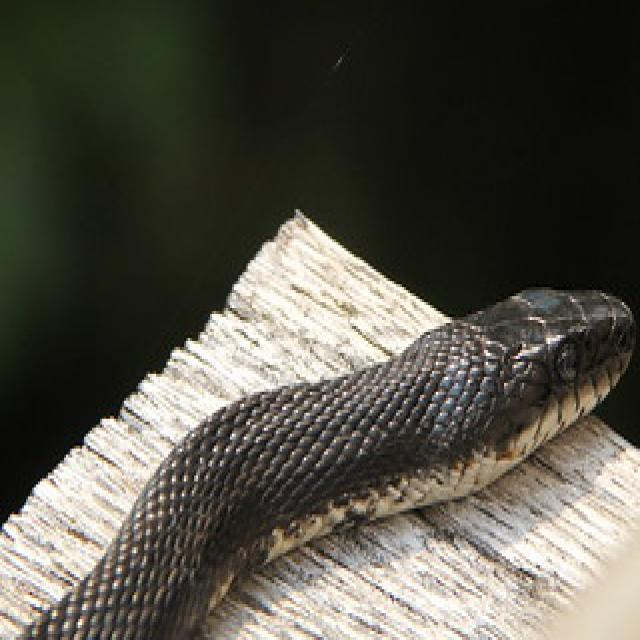Snake: (0, 278, 636, 640)
